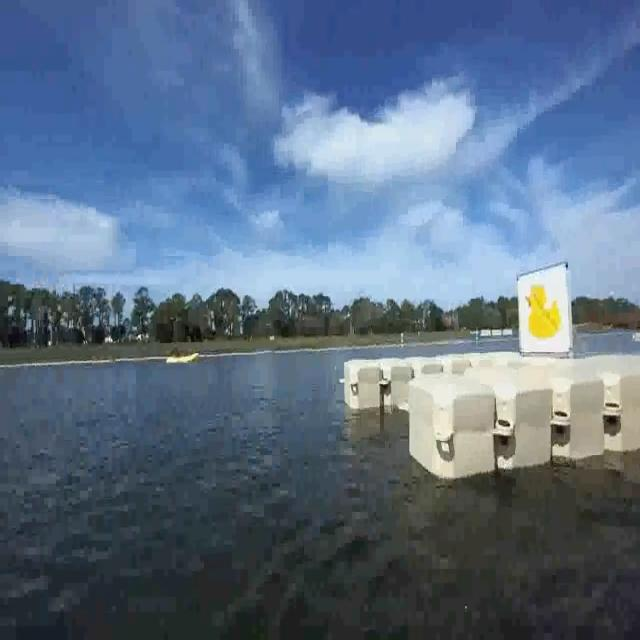yellow-duck: (524, 280, 560, 340)
